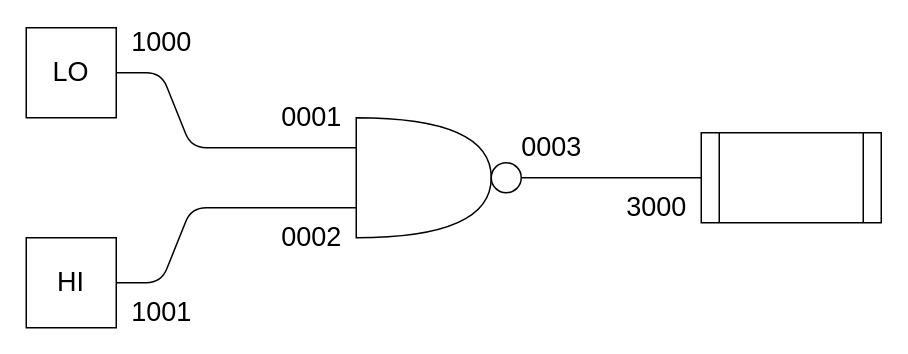
Some shapes in this 908 by 354 pixel diagram are drawn without their labels. The centre of each missing label's shape, as x and y in pixels:
"LED" goes at point 790,177.
"NAND" goes at point 423,177.
